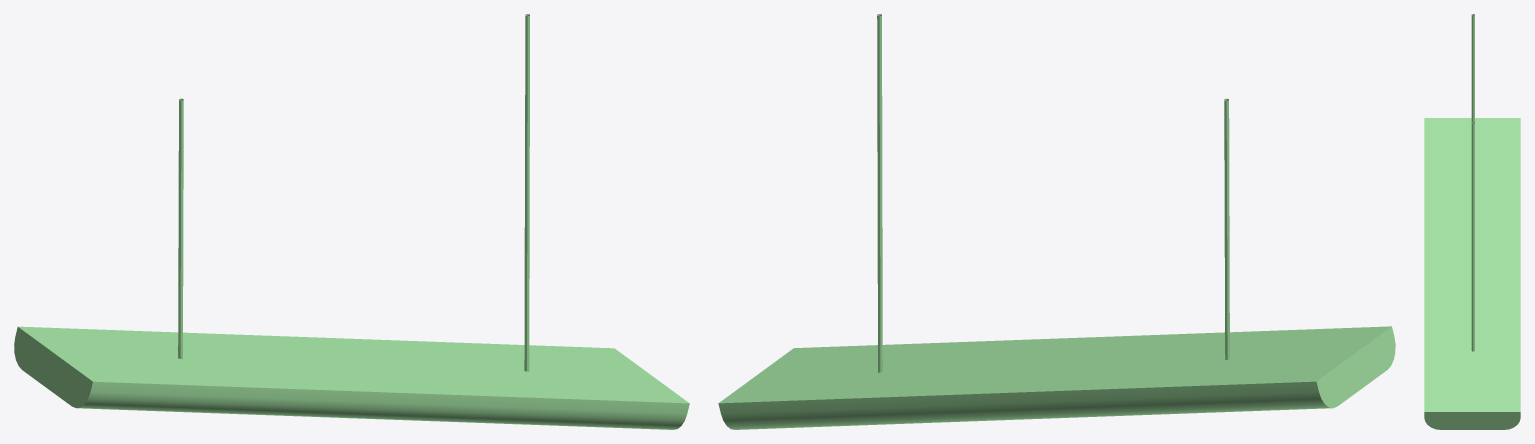
File: Luz 1.fbx
The picture shows the model from 3 angles, left to right: view 1: azimuth 30°, elevation 25°; view 2: azimuth 150°, elevation 25°; view 3: azimuth 270°, elevation 25°; orthographic projection. The views are drawn at different scales.
Visible parts, largest first — view 1: Luz_1; view 2: Luz_1; view 3: Luz_1.
Boxes of the visible parts, bbox=[...] form: Luz_1: bbox=[14, 14, 689, 429]; Luz_1: bbox=[718, 14, 1395, 429]; Luz_1: bbox=[1424, 14, 1520, 429].
Size of the model in its own units: 1.23 by 0.8238 by 0.266.
